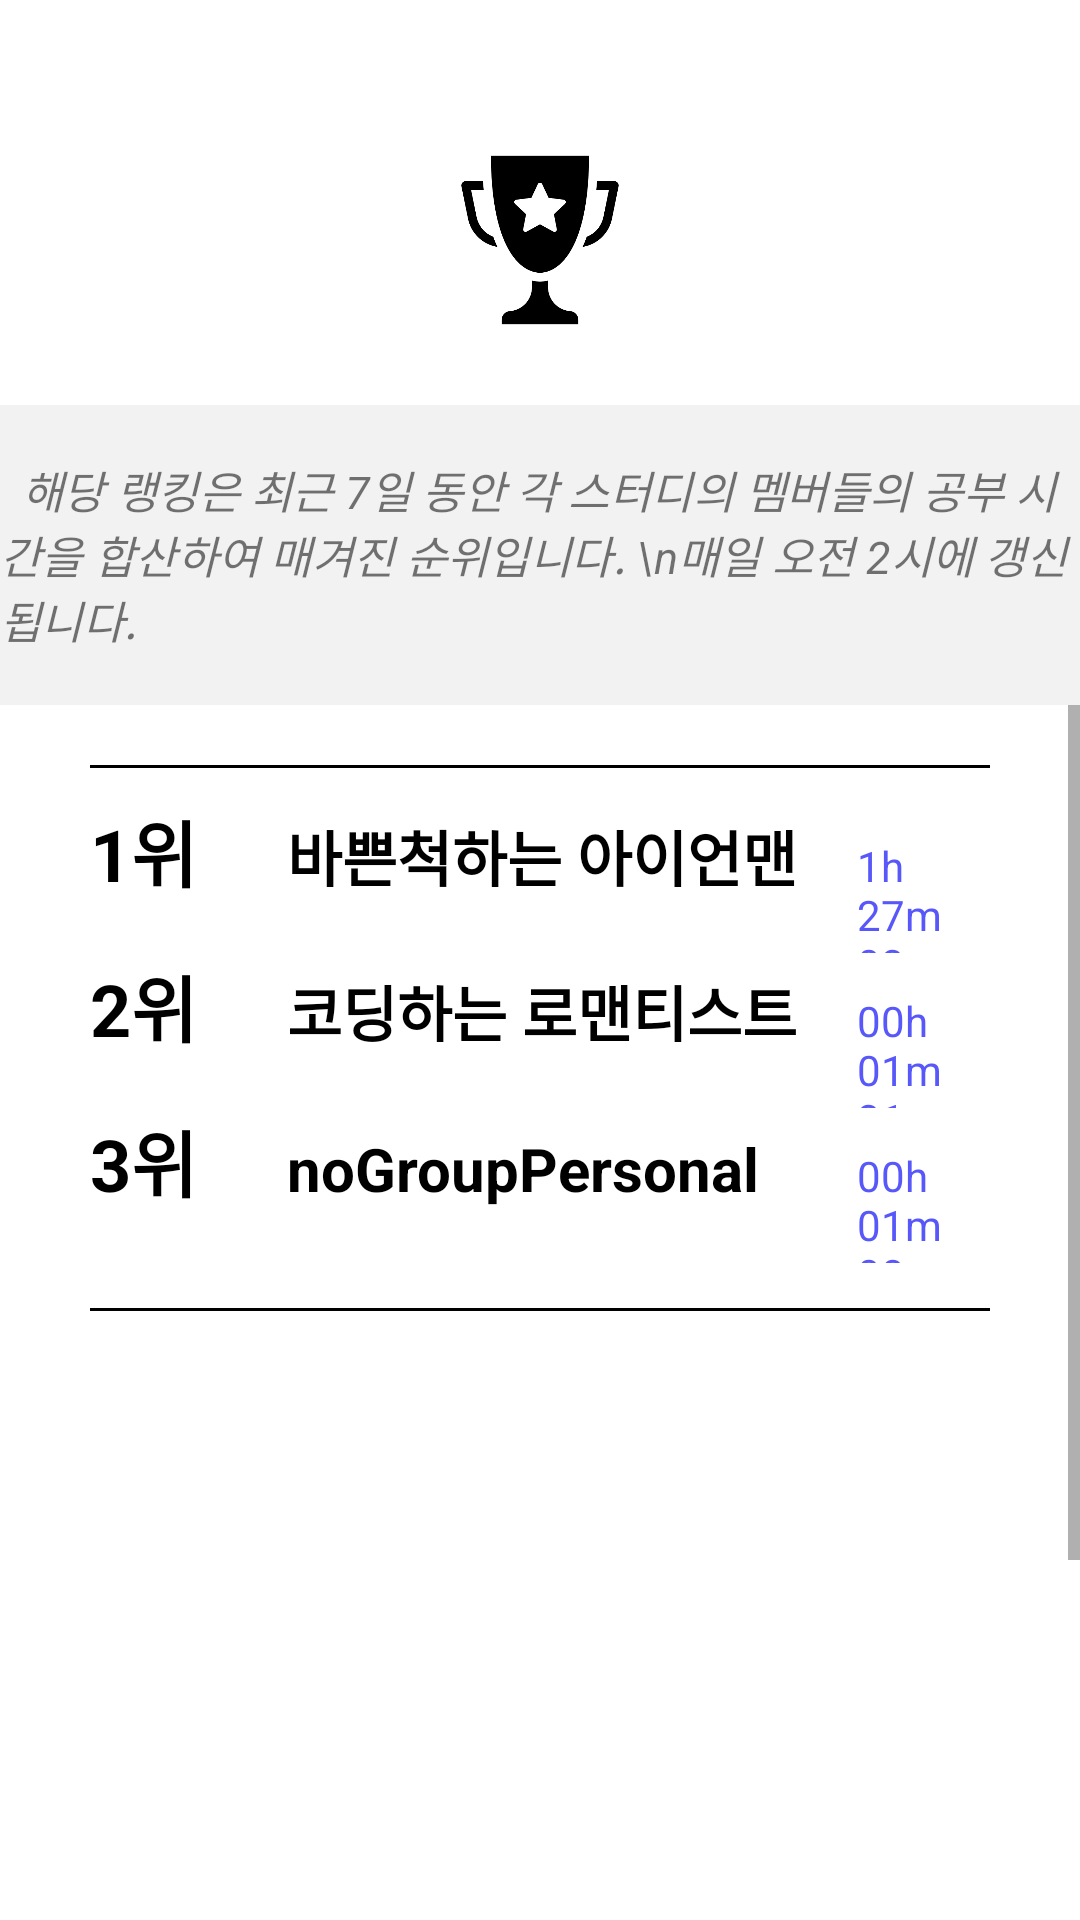

Icons on this 1080px×1920px Android screen, each with its box as bbox=(x1, y1, x2, y2):
champion: bbox=(461, 155, 619, 325)
